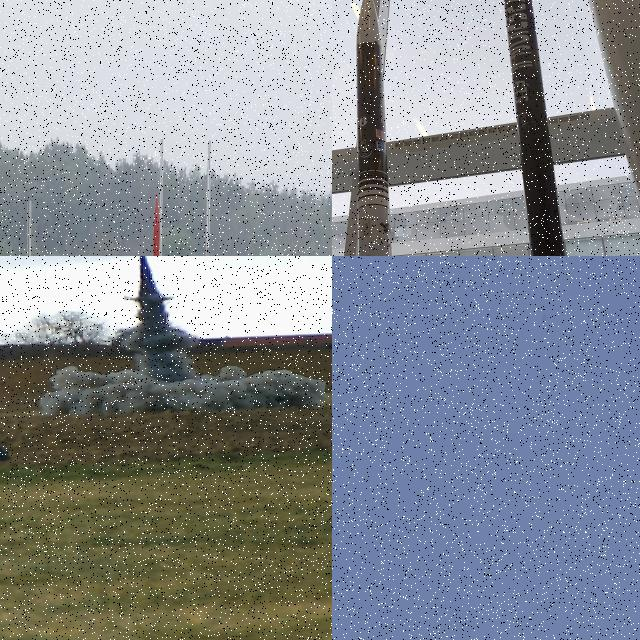Rocket: (504, 0, 566, 256), (356, 0, 392, 256), (140, 192, 164, 256)
